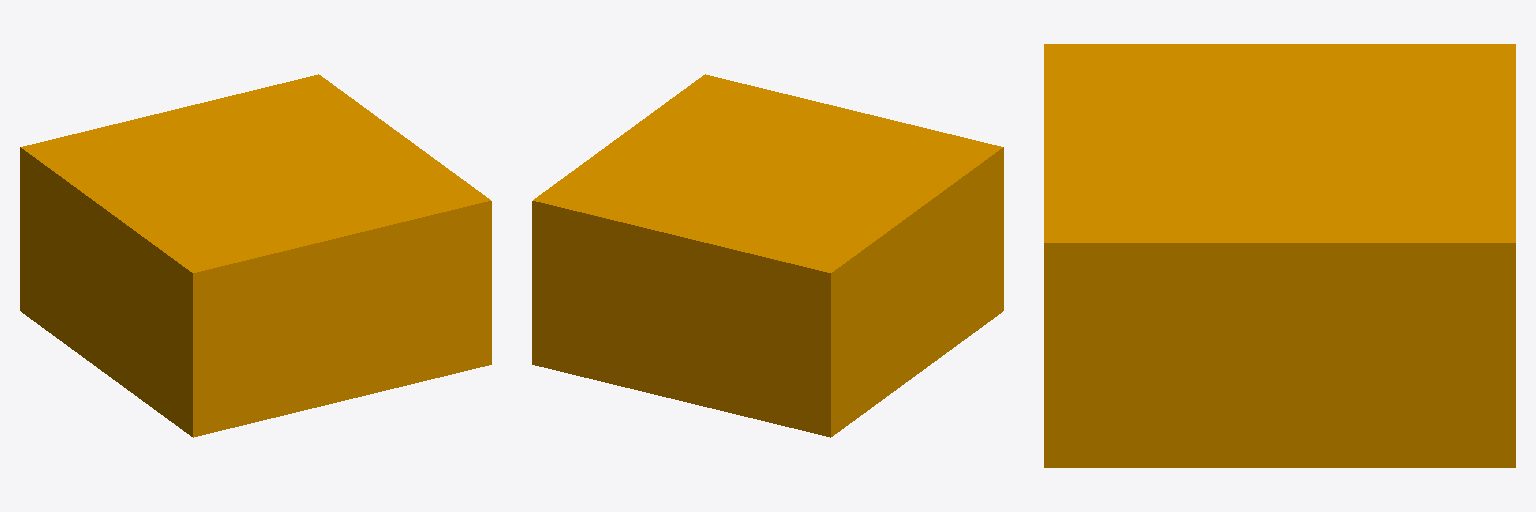
The robot description file, URDF, robot "2v2_nosensors_cuboid_large":
<?xml version="1.0" ?>
<robot name="2v2_nosensors_cuboid_large">

    <link name="2v2_nosensors_cuboid_large">
        <visual>
            <origin rpy="1.5707963267948966 0 0" xyz="0 0 0"/>
            <geometry>
                <mesh filename="obj_files/2v2_nosensors_cuboid_large.obj" scale="1 1 1"/>
            </geometry>
        </visual>
        <collision>
            <geometry>
                <mesh filename="obj_files/2v2_nosensors_cuboid_large_collision.obj" scale="1 1 1"/>
            </geometry>
        </collision>
    </link>

</robot>

--- What the picture shows (computed from the rendered views, not written in the file) ---
Views: 3 orthographic renders of the robot side by side, from view 1: azimuth 30°, elevation 25°; view 2: azimuth 150°, elevation 25°; view 3: azimuth 270°, elevation 25°.
Model 2v2_nosensors_cuboid_large with 1 links and 0 joints (none), rooted at 2v2_nosensors_cuboid_large, posed every joint at zero.
Visible links, largest first — view 1: 2v2_nosensors_cuboid_large; view 2: 2v2_nosensors_cuboid_large; view 3: 2v2_nosensors_cuboid_large.
Link boxes in pixels (box(x1,y1,x2,y2)): 2v2_nosensors_cuboid_large: box(20, 74, 491, 437); 2v2_nosensors_cuboid_large: box(532, 74, 1003, 437); 2v2_nosensors_cuboid_large: box(1044, 44, 1515, 467).
Bounding box of the posed robot: 0.1826 × 0.1826 × 0.096 m (x, y, z).
Meshes: 1 distinct files referenced, 1 mesh visuals loaded (1 OBJ).